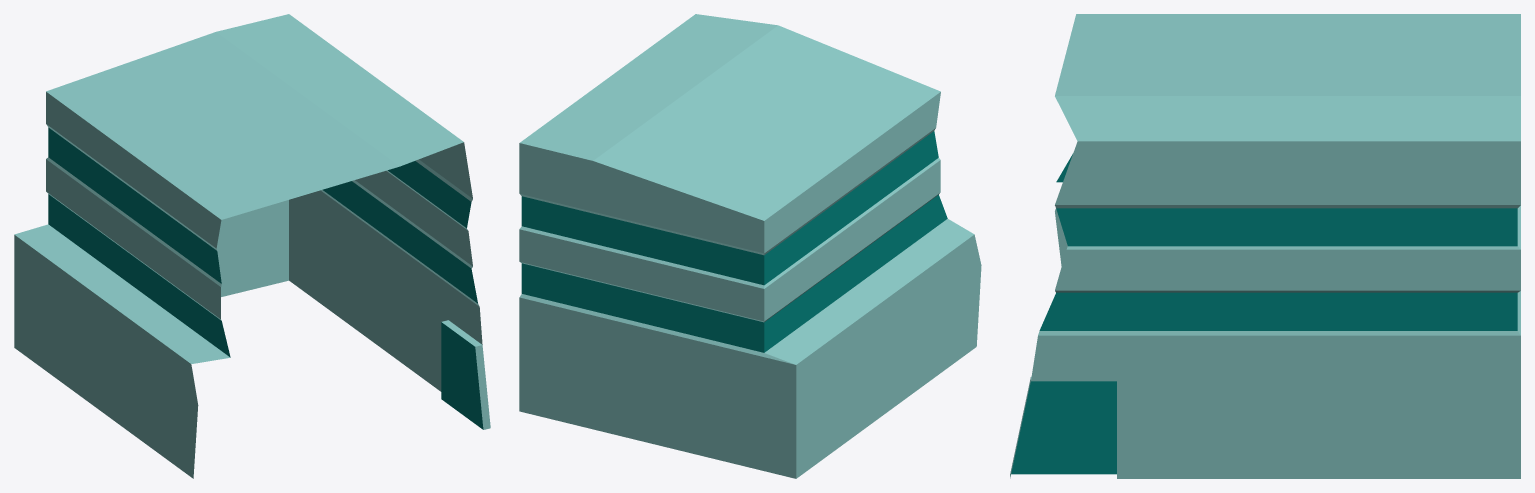
Rendered from ruines2.FBX.
The picture shows the model from 3 angles, left to right: view 1: azimuth 30°, elevation 25°; view 2: azimuth 150°, elevation 25°; view 3: azimuth 270°, elevation 25°; orthographic projection. The views are drawn at different scales.
Visible parts, largest first — view 1: Box001; view 2: Box001; view 3: Box001.
Boxes of the visible parts, box(x1,y1,x2,y2) form: Box001: box(14, 14, 490, 478); Box001: box(519, 14, 981, 478); Box001: box(1010, 14, 1520, 478).
Bounding box in the file's own units: 68.17 × 63.19 × 86.63.
